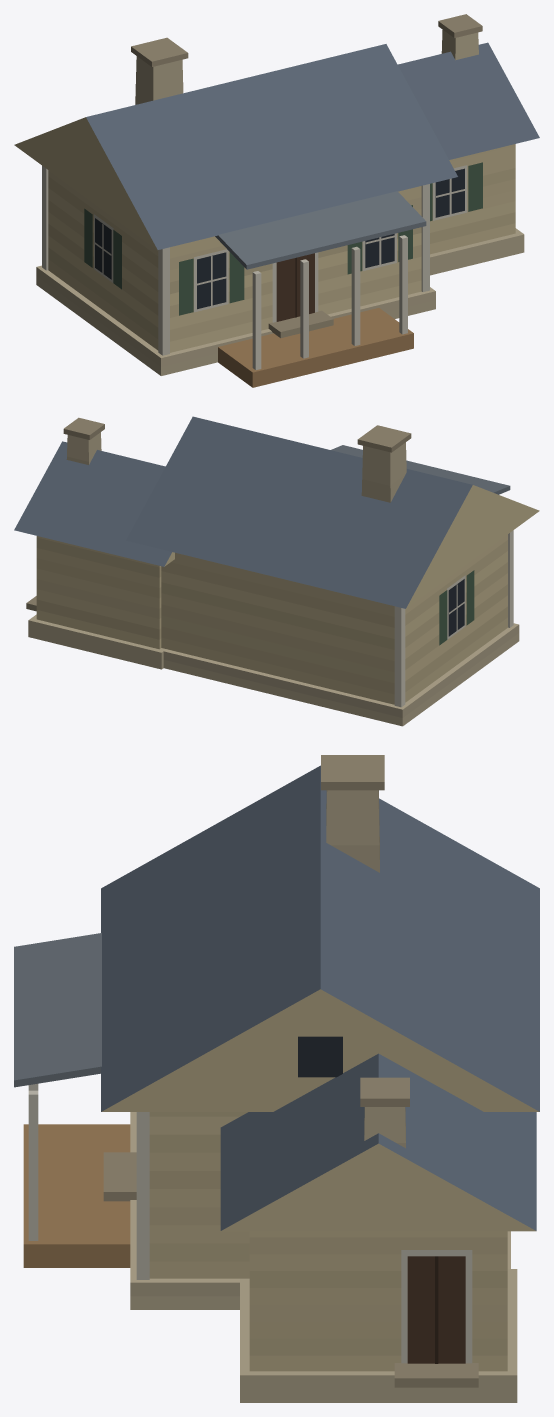
The model's file is house.glb.
3 views of the same model, one above another, from view 1: azimuth 30°, elevation 25°; view 2: azimuth 150°, elevation 25°; view 3: azimuth 270°, elevation 25° (orthographic). The views are drawn at different scales.
Visible parts, largest first — view 1: house; view 2: house; view 3: house.
Boxes of the visible parts, bbox=[...] form: house: bbox=[14, 14, 539, 387]; house: bbox=[14, 416, 539, 726]; house: bbox=[14, 755, 539, 1402].
Size of the model in its own units: 11.66 by 6.67 by 8.15.
